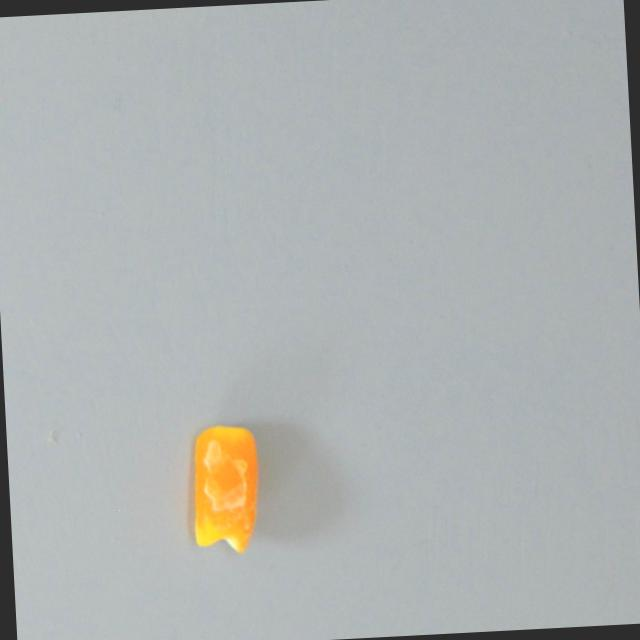pelicula: (167, 409, 278, 573)
